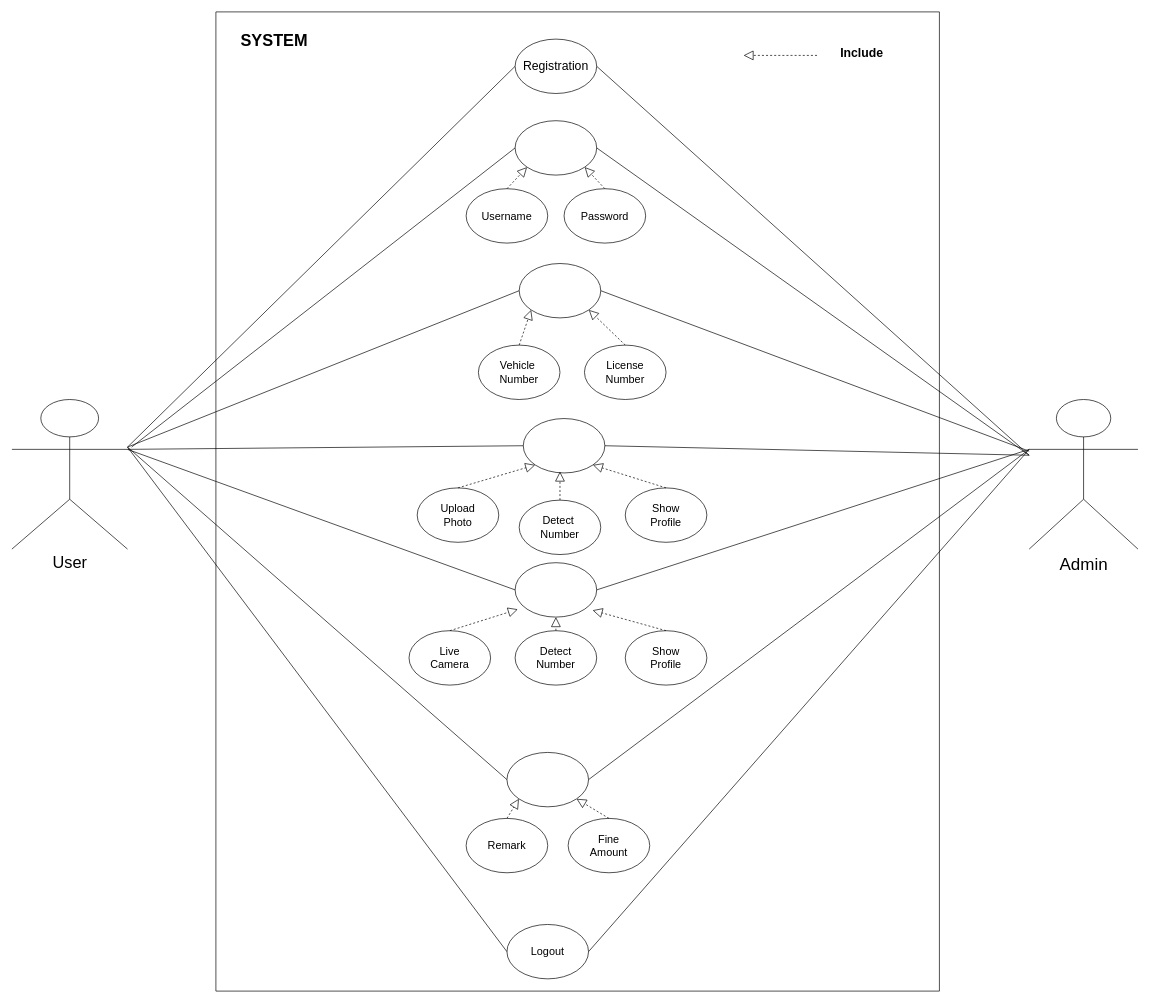
Some shapes in this 1150 by 1004 pixel diagram are drawn without their labels. Here are the shapes that lost their labels. From the top down, the box of each, then its label:
(514, 120, 597, 175): Login
(518, 263, 601, 318): Fill Vehicle Details
(523, 418, 605, 473): Search By Photo
(514, 562, 597, 617): Search By Video
(506, 752, 589, 807): Penelty
